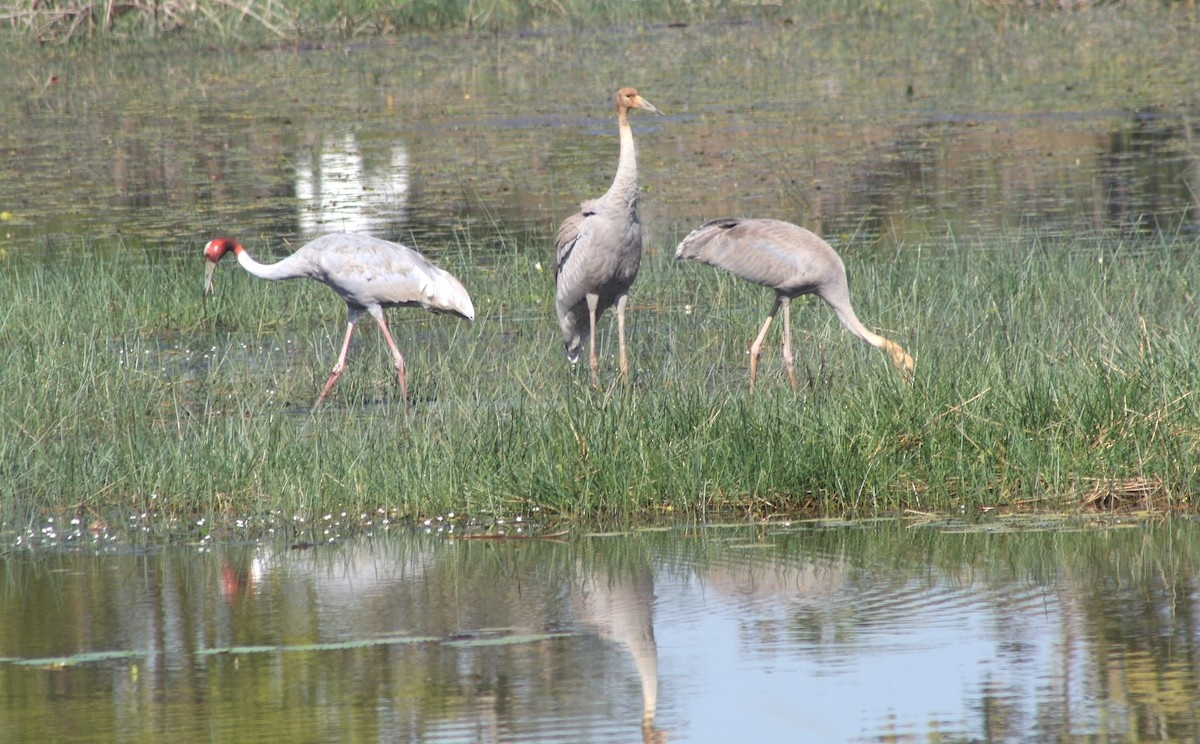crane: (676, 209, 923, 399), (194, 228, 493, 378), (550, 86, 665, 376)
